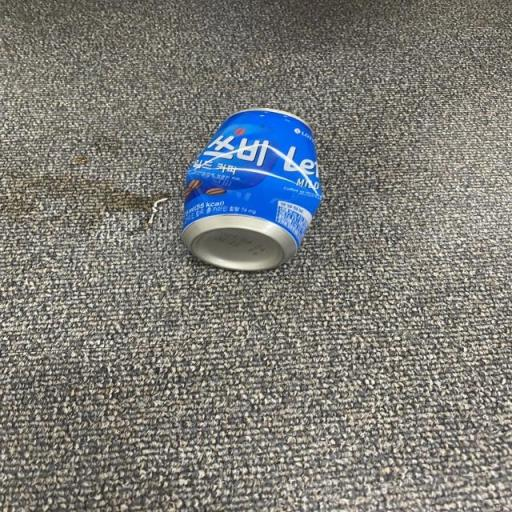metal: (160, 99, 356, 297)
